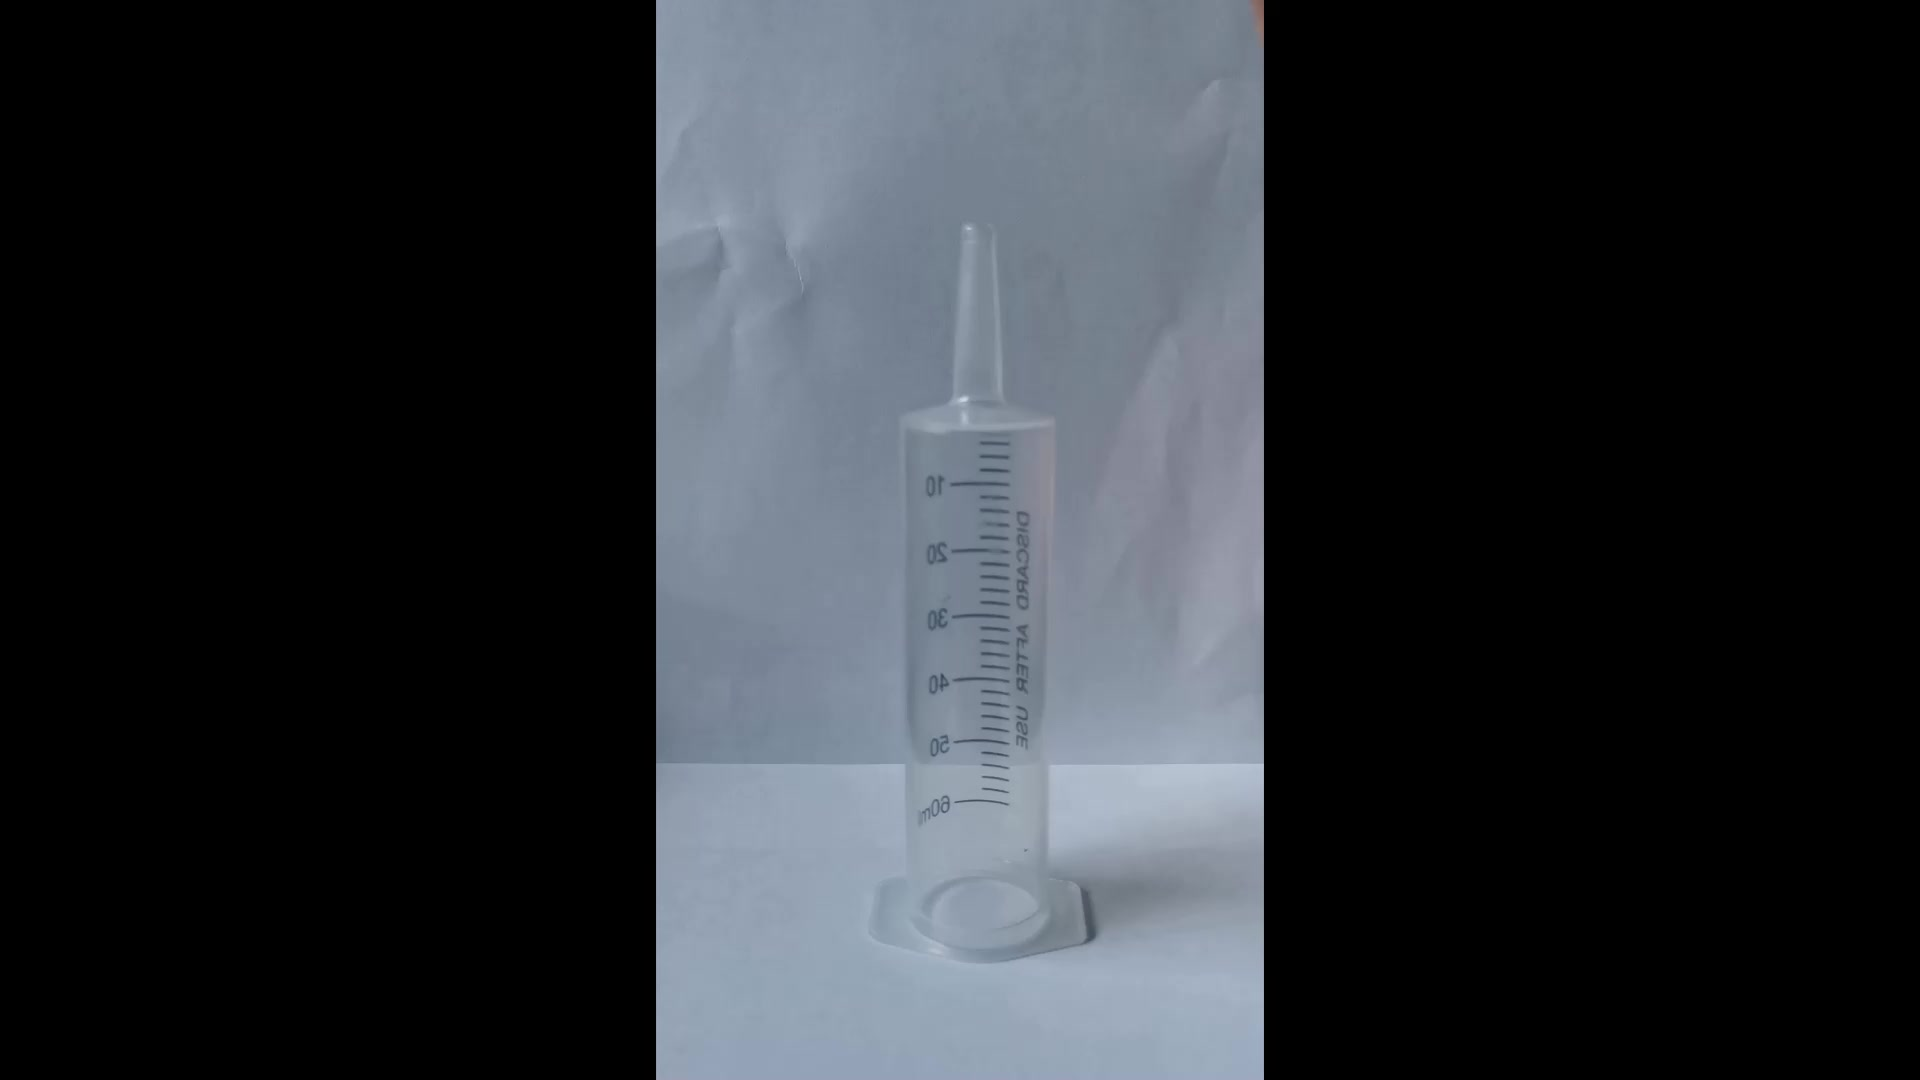syringe: (873, 214, 1106, 969)
